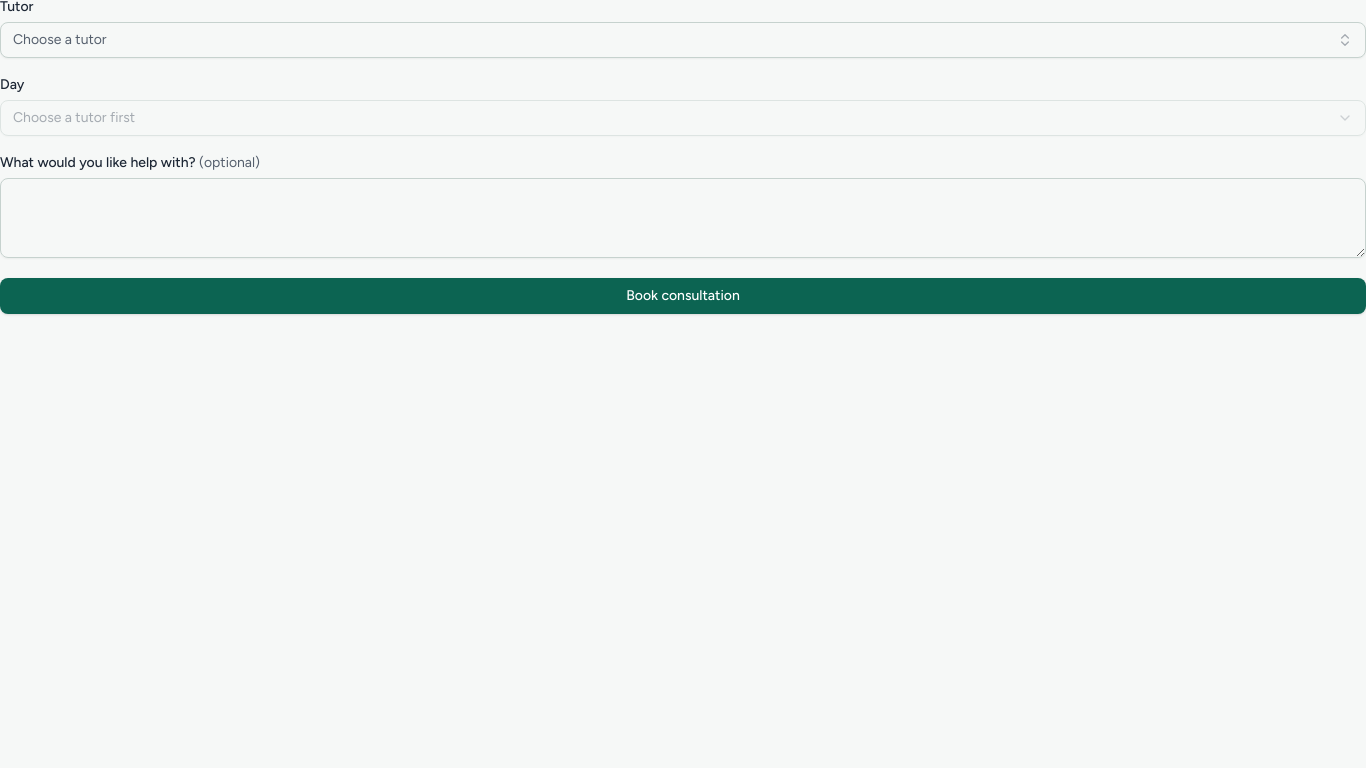
Scenario: the form › with a tutor but no time, asks only for the time
Click the dropdown labelled "tutor": coordinates (60, 40) x1=0 y1=22 x2=1365 y2=58
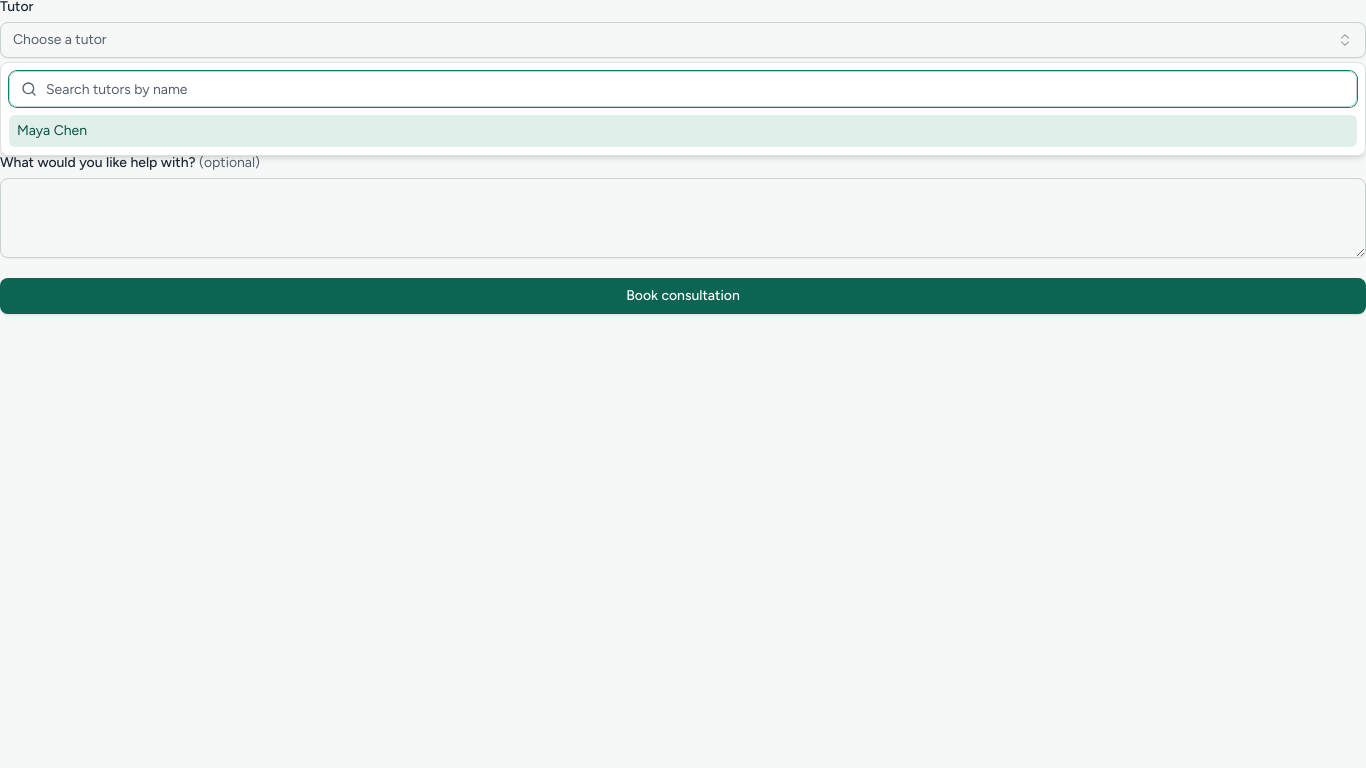
Click the option "Maya Chen": coordinates (52, 130) x1=9 y1=115 x2=1357 y2=147
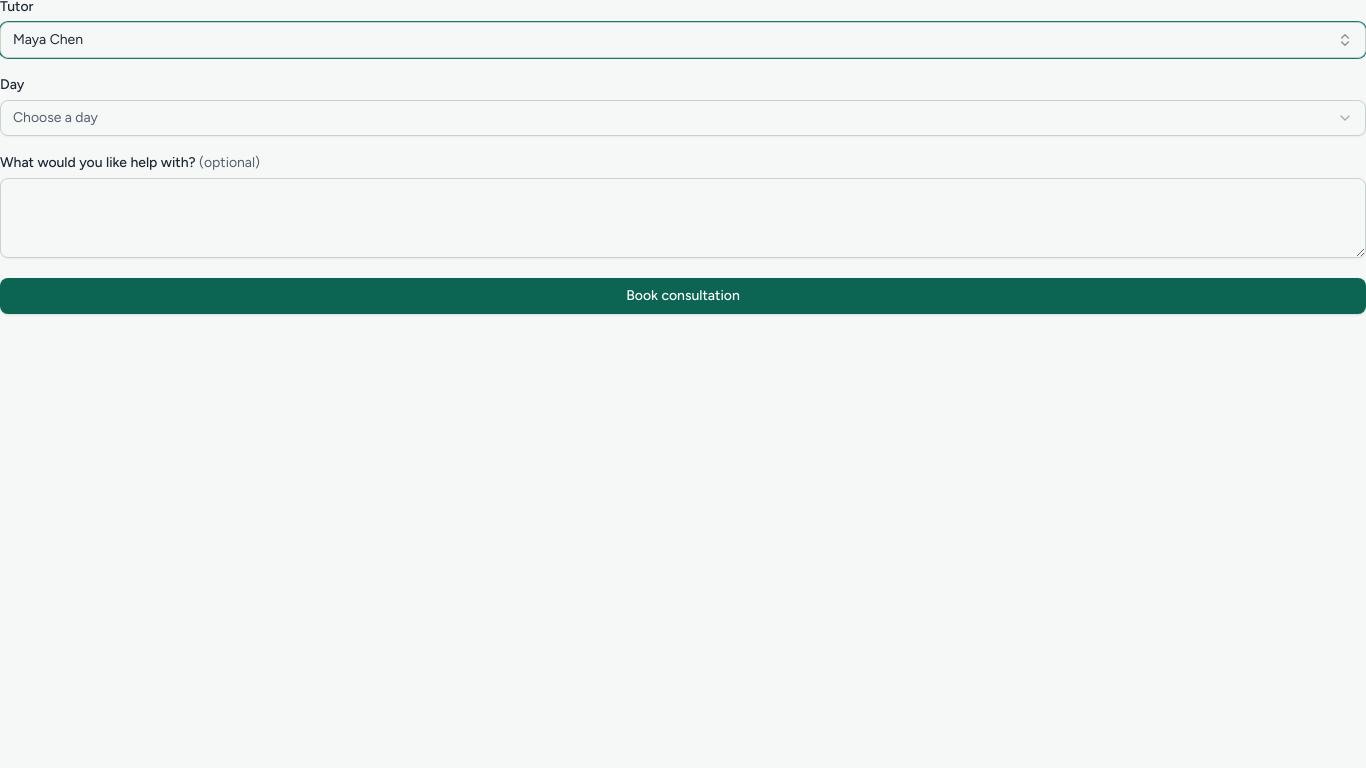
Click the button "Book consultation": coordinates (683, 296) x1=0 y1=278 x2=1365 y2=314
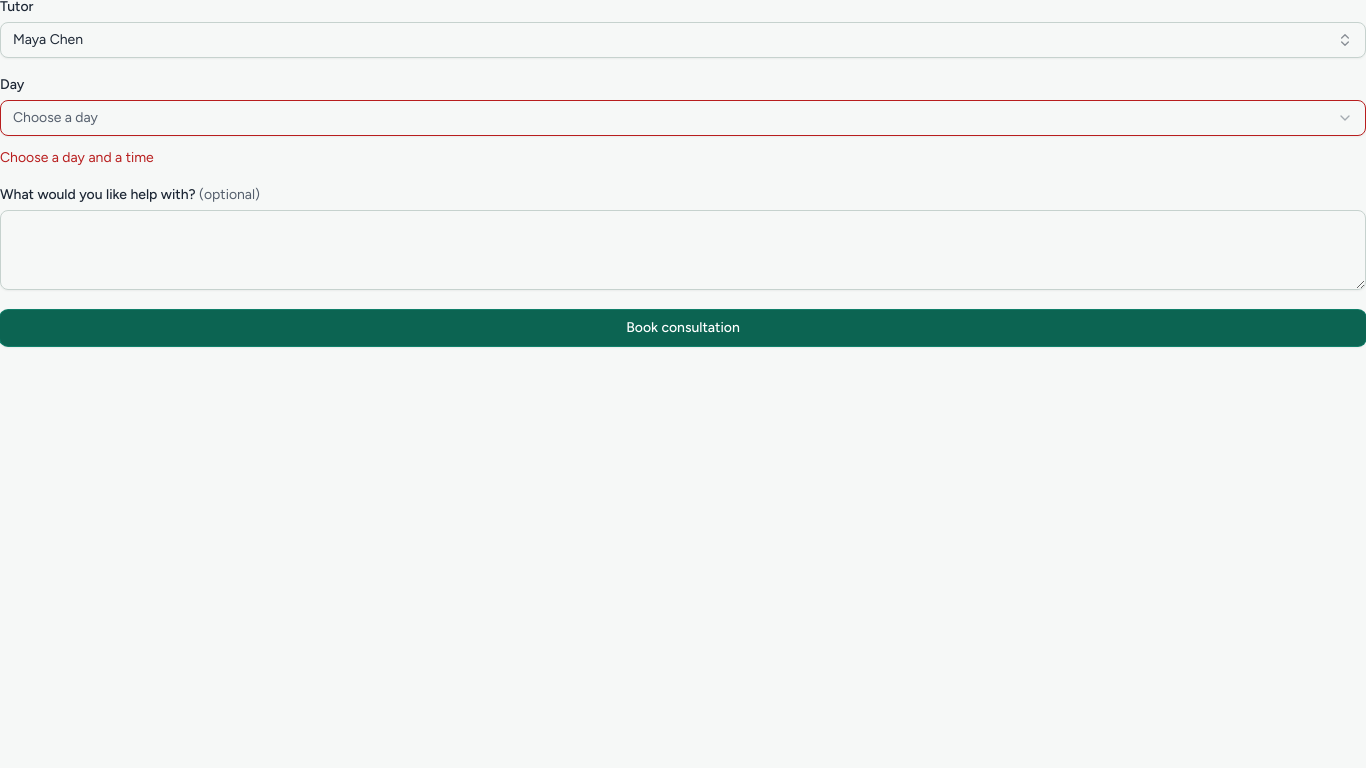
Expected: the text "Choose a day and a time" is shown, x1=0 y1=149 x2=154 y2=166
